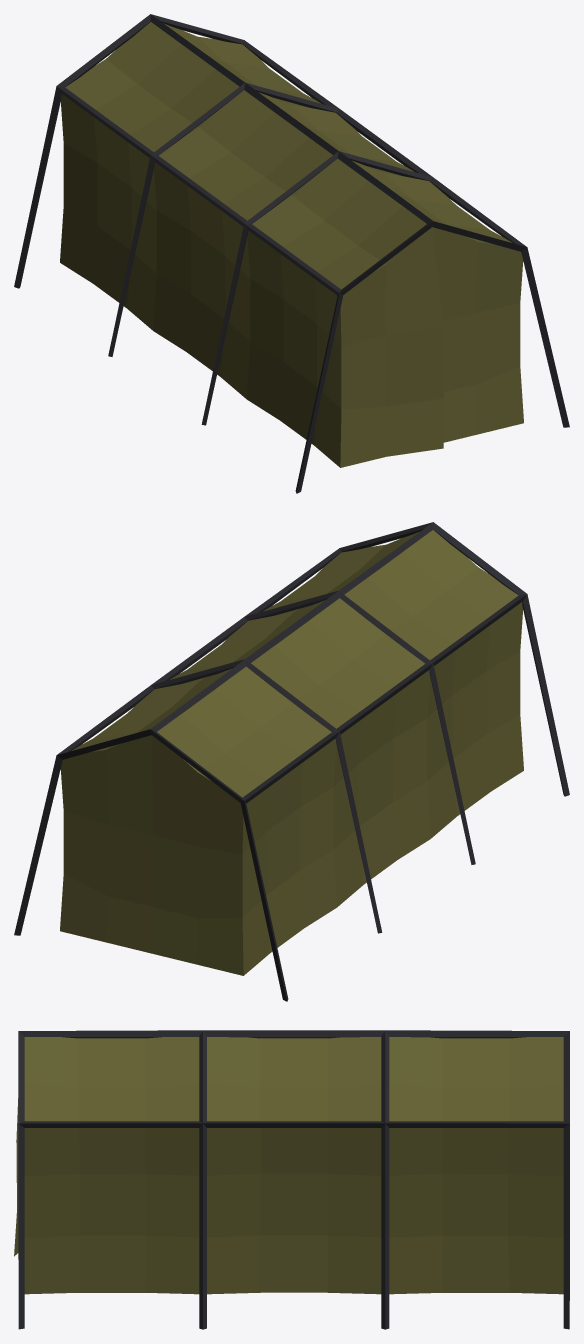
File: LPWarPack_Tent1.fbx
The picture shows the model from 3 angles, top to bottom: view 1: azimuth 30°, elevation 25°; view 2: azimuth 150°, elevation 25°; view 3: azimuth 270°, elevation 25°; orthographic projection. The views are drawn at different scales.
Parts seen in each view (by area): view 1: Tent1; view 2: Tent1; view 3: Tent1.
Boxes of the visible parts, box(x1,y1,x2,y2) form: Tent1: box(14, 14, 569, 493); Tent1: box(14, 522, 569, 1001); Tent1: box(14, 1030, 569, 1329).
Size of the model in its own units: 298 by 250 by 538.
